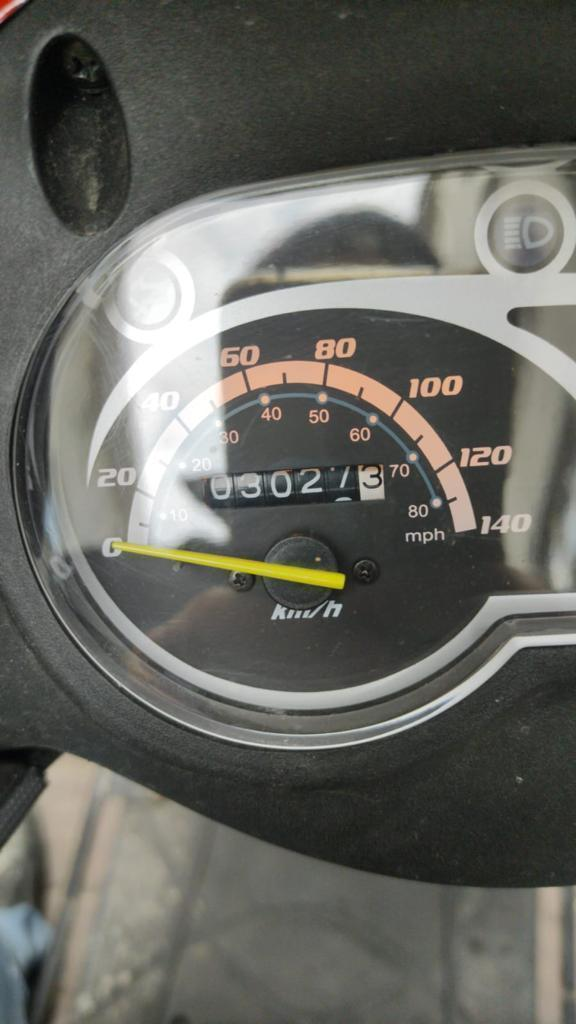0: (267, 469, 294, 499), (208, 473, 232, 501), (201, 460, 213, 472)
2: (297, 467, 324, 494), (196, 460, 200, 472)
3: (237, 471, 263, 499), (359, 463, 384, 490)
7: (329, 464, 351, 489)
odometer: (195, 459, 387, 513)
